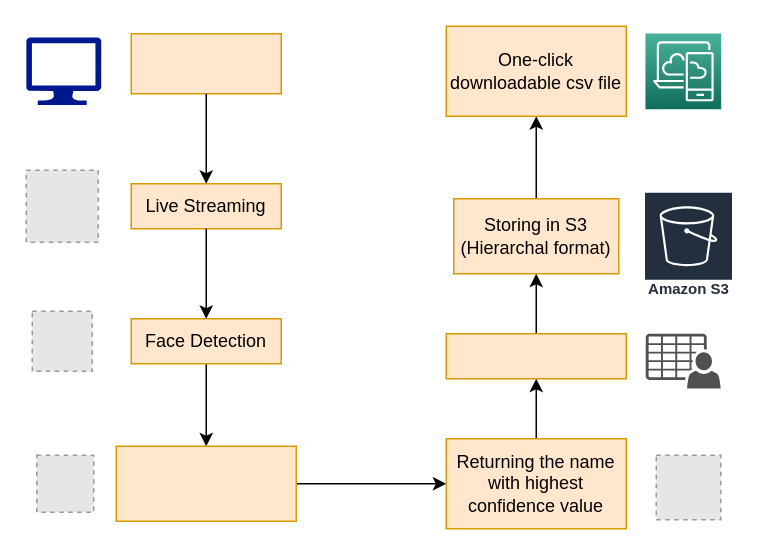
This 761x555 diagram has some shape labels left out. Grey dashed boxes stand in for pictures. The centre of each missing label's shape, as x and y in pixels:
Comparing with existing Images: pixel 205 483
Marking Attendance: pixel 535 355
Start Camera: pixel 205 63
